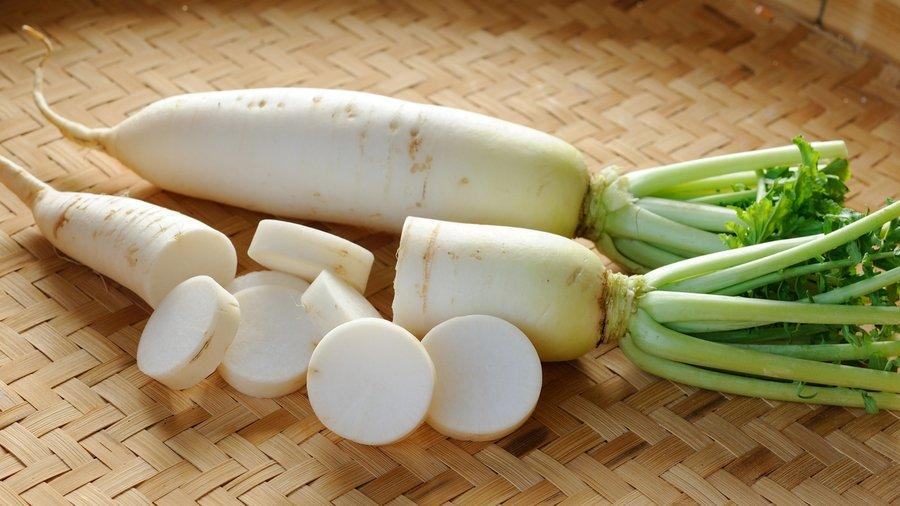radish: (76, 59, 847, 191), (0, 121, 335, 243), (543, 164, 886, 278)
